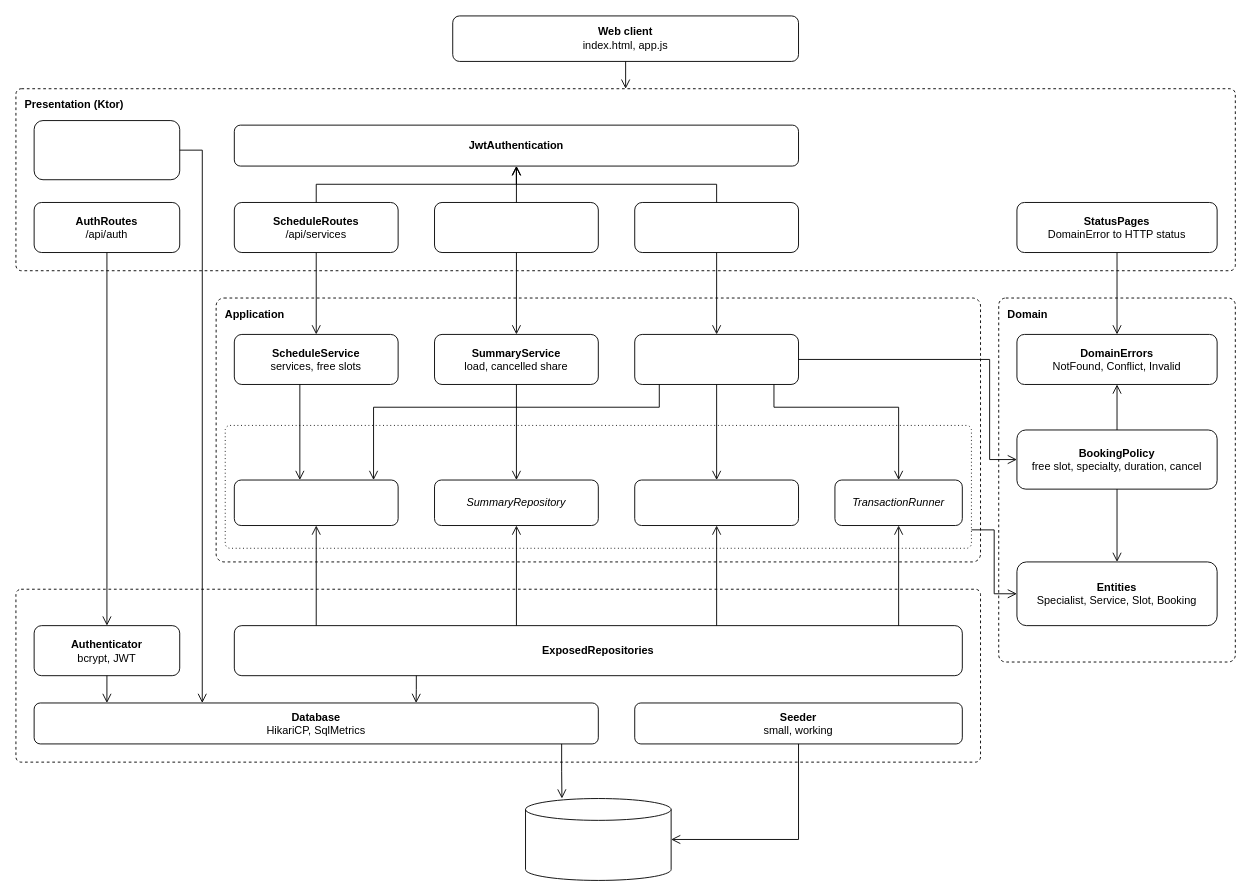
This 1251x896 diagram has some shape labels left out. The box of each missing label's shape, as (x1, y1, x2, y2) in pixels:
BookingRepository: (634, 479, 799, 526)
BookingRoutes /api/bookings: (634, 202, 799, 253)
BookingService list, card, book, cancel: (634, 334, 799, 384)
Infrastructure: (15, 588, 981, 762)
Ports: (224, 425, 971, 548)
PostgreSQL 16 schema ivan_tikhonov: (525, 798, 671, 880)
RequestMetrics timing headers: (33, 120, 180, 180)
ScheduleRepository: (233, 479, 398, 526)
SummaryRoutes /api/summary: (434, 202, 598, 253)
